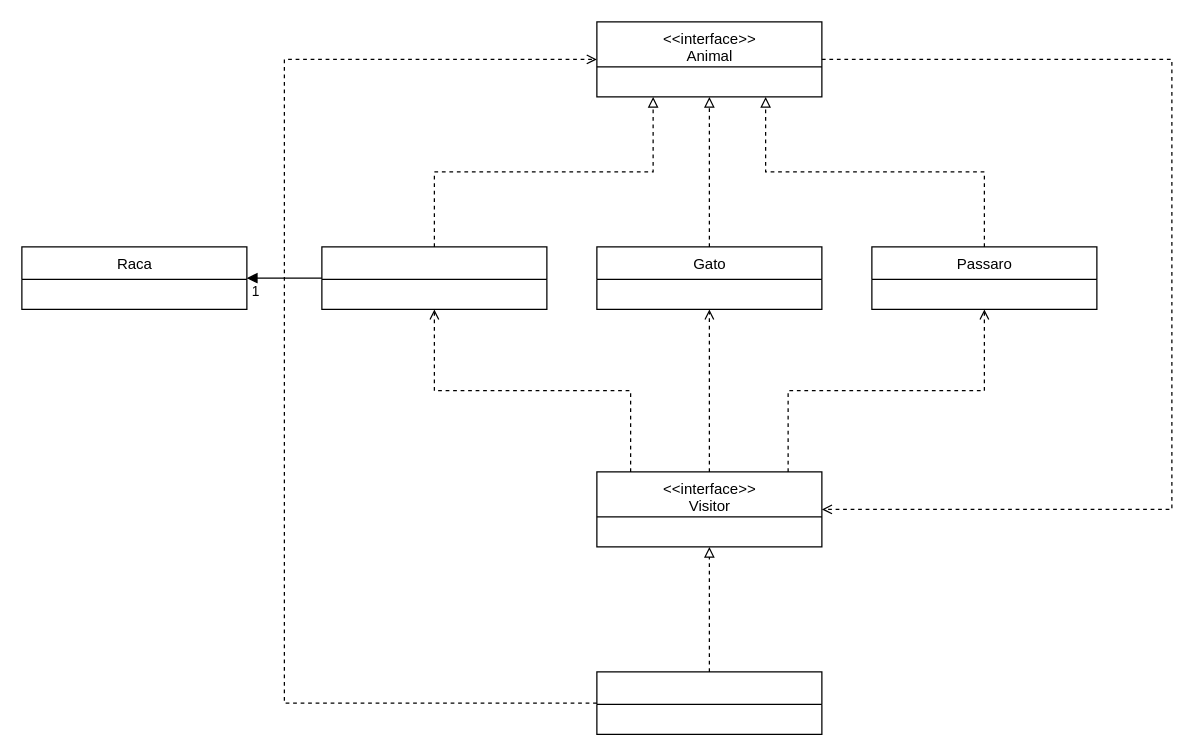
Image size: 1204x756. Some labels were removed from this diagram. The box of each missing label's shape, as (x1, y1, x2, y2) in pixels:
AnimalVisitor: (596, 671, 822, 734)
Cachorro: (321, 246, 547, 309)
